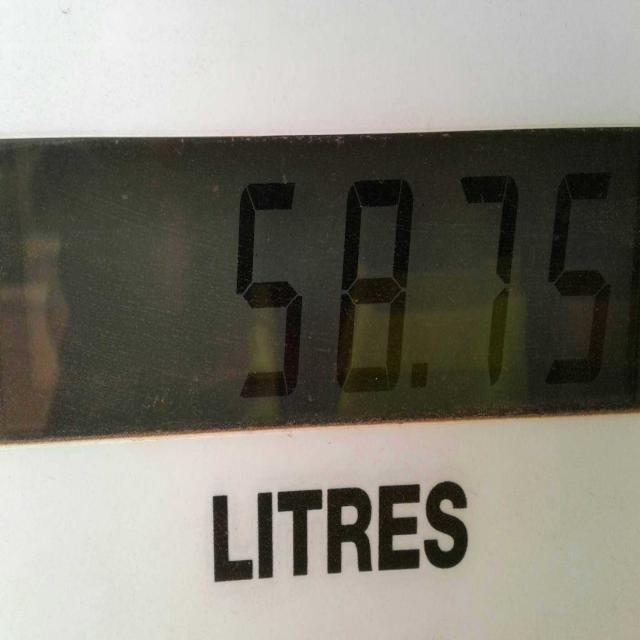.: (402, 342, 438, 418)
5: (216, 165, 320, 411), (532, 150, 626, 409)
7: (446, 156, 534, 408)
8: (326, 165, 421, 402)
